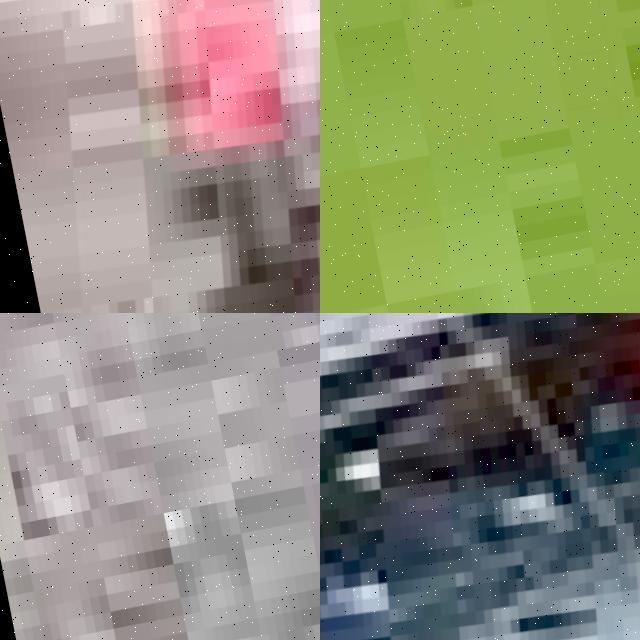drone: (320, 313, 640, 640), (0, 0, 320, 313)
